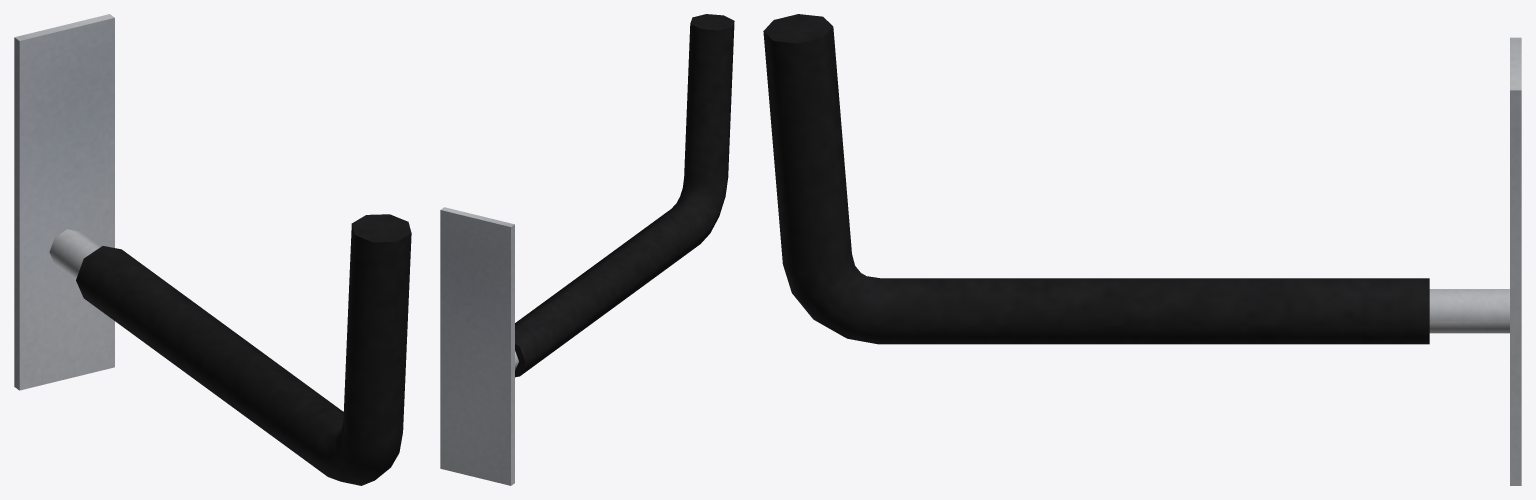
The model's file is haken_gewehr_nah.obj.
3 renders of one model, left to right at view 1: azimuth 30°, elevation 25°; view 2: azimuth 150°, elevation 25°; view 3: azimuth 270°, elevation 25°, orthographic. The views are drawn at different scales.
Visible parts, largest first — view 1: Vorlage_Haken_gewehr_nah; view 2: Vorlage_Haken_gewehr_nah; view 3: Vorlage_Haken_gewehr_nah.
Part boxes in pixels (x1=…): Vorlage_Haken_gewehr_nah: x1=14, y1=14, x2=411, y2=485; Vorlage_Haken_gewehr_nah: x1=440, y1=14, x2=734, y2=485; Vorlage_Haken_gewehr_nah: x1=763, y1=14, x2=1521, y2=485.
Bounding box in the file's own units: 0.016 × 0.0613 × 0.0973.
Materials: 2 (2 with a texture image).
